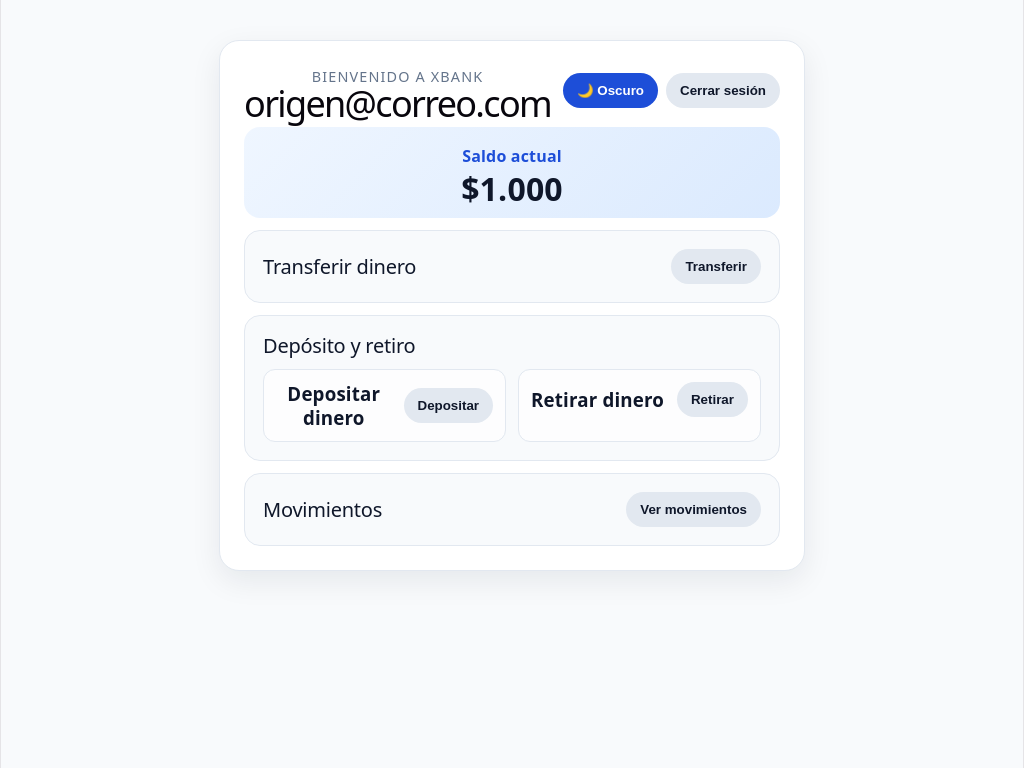
Test: Historial › muestra un estado vacío cuando no hay movimientos
The image size is (1024, 768).
Click the button "Ver movimientos" at [694, 509], box [626,492,761,527]
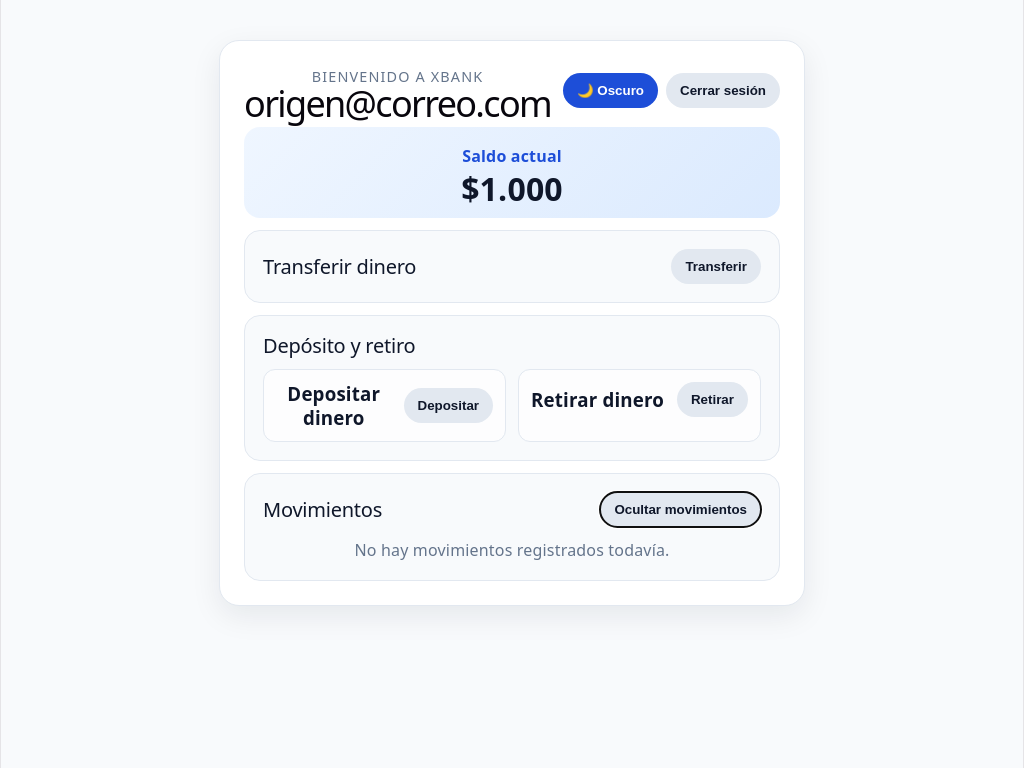
Expected: the text "No hay movimientos registrados todavía." is shown, [354,539,670,561]
